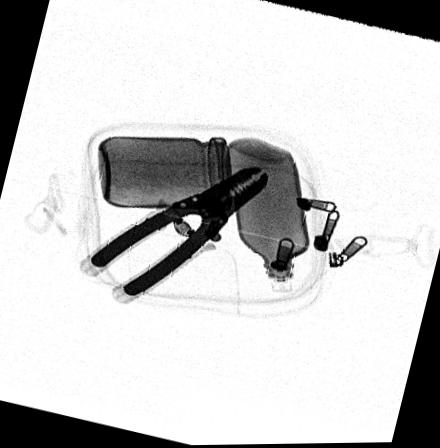Pliers: (89, 165, 267, 301)
